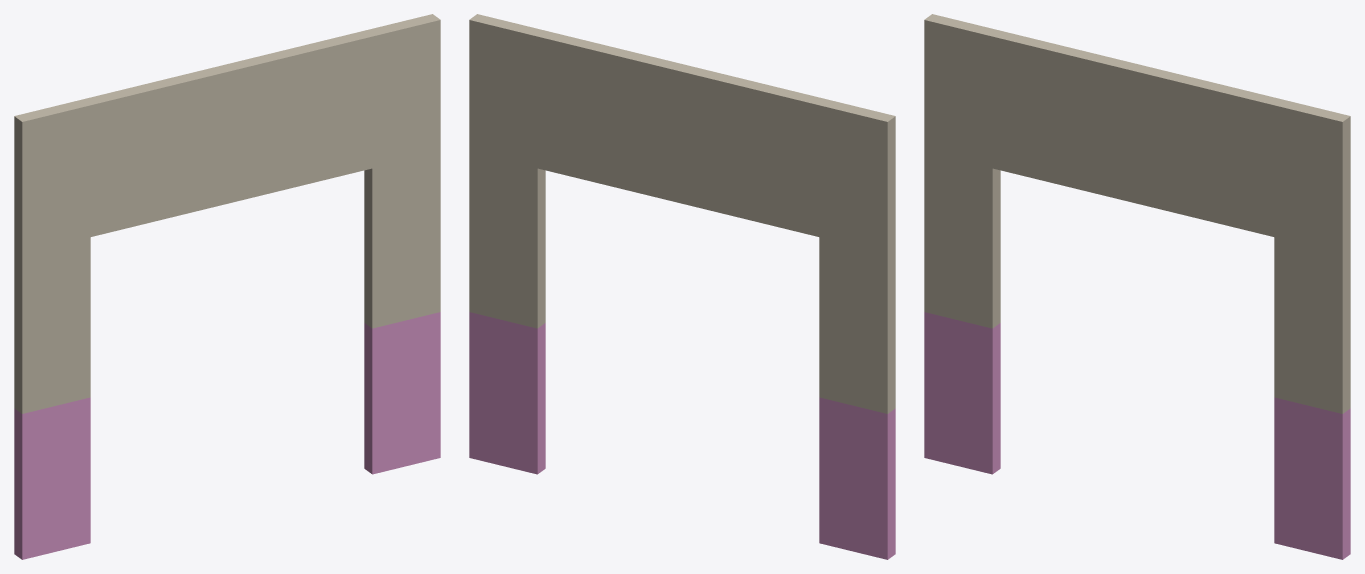
File: Mesh_Wall2Colors_H4.fbx
3 renders of one model, left to right at view 1: azimuth 30°, elevation 25°; view 2: azimuth 150°, elevation 25°; view 3: azimuth 330°, elevation 25°, orthographic.
Visible parts, largest first — view 1: Mesh_Wall2Colors_H4; view 2: Mesh_Wall2Colors_H4; view 3: Mesh_Wall2Colors_H4.
Boxes of the visible parts, box(x1,y1,x2,y2) form: Mesh_Wall2Colors_H4: box(14, 14, 440, 559); Mesh_Wall2Colors_H4: box(469, 14, 895, 559); Mesh_Wall2Colors_H4: box(924, 14, 1350, 559).
Bounding box in the file's own units: 3 × 3 × 0.1.
